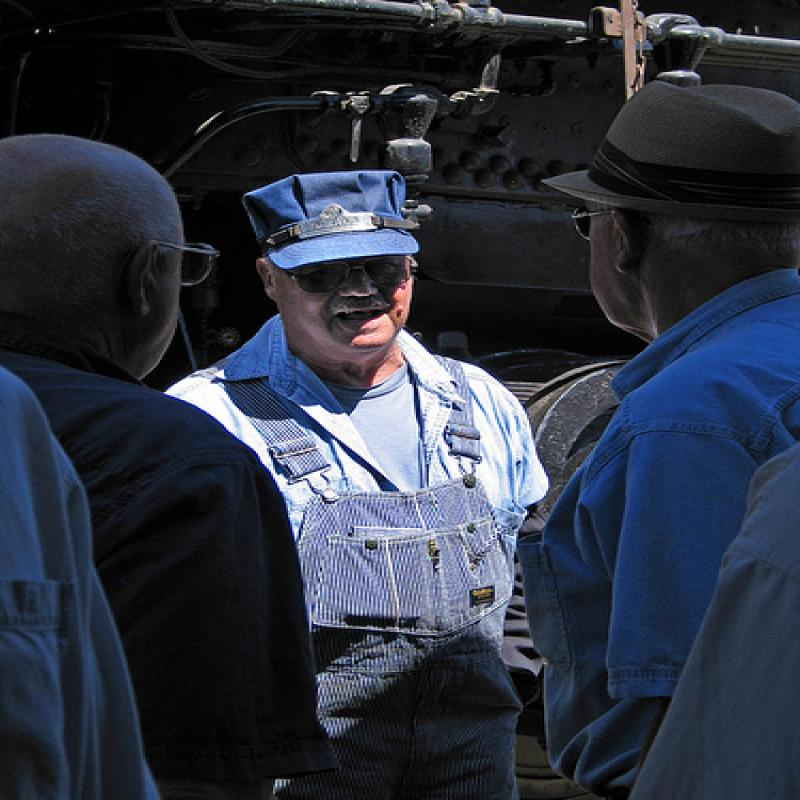train: (1, 1, 799, 796)
